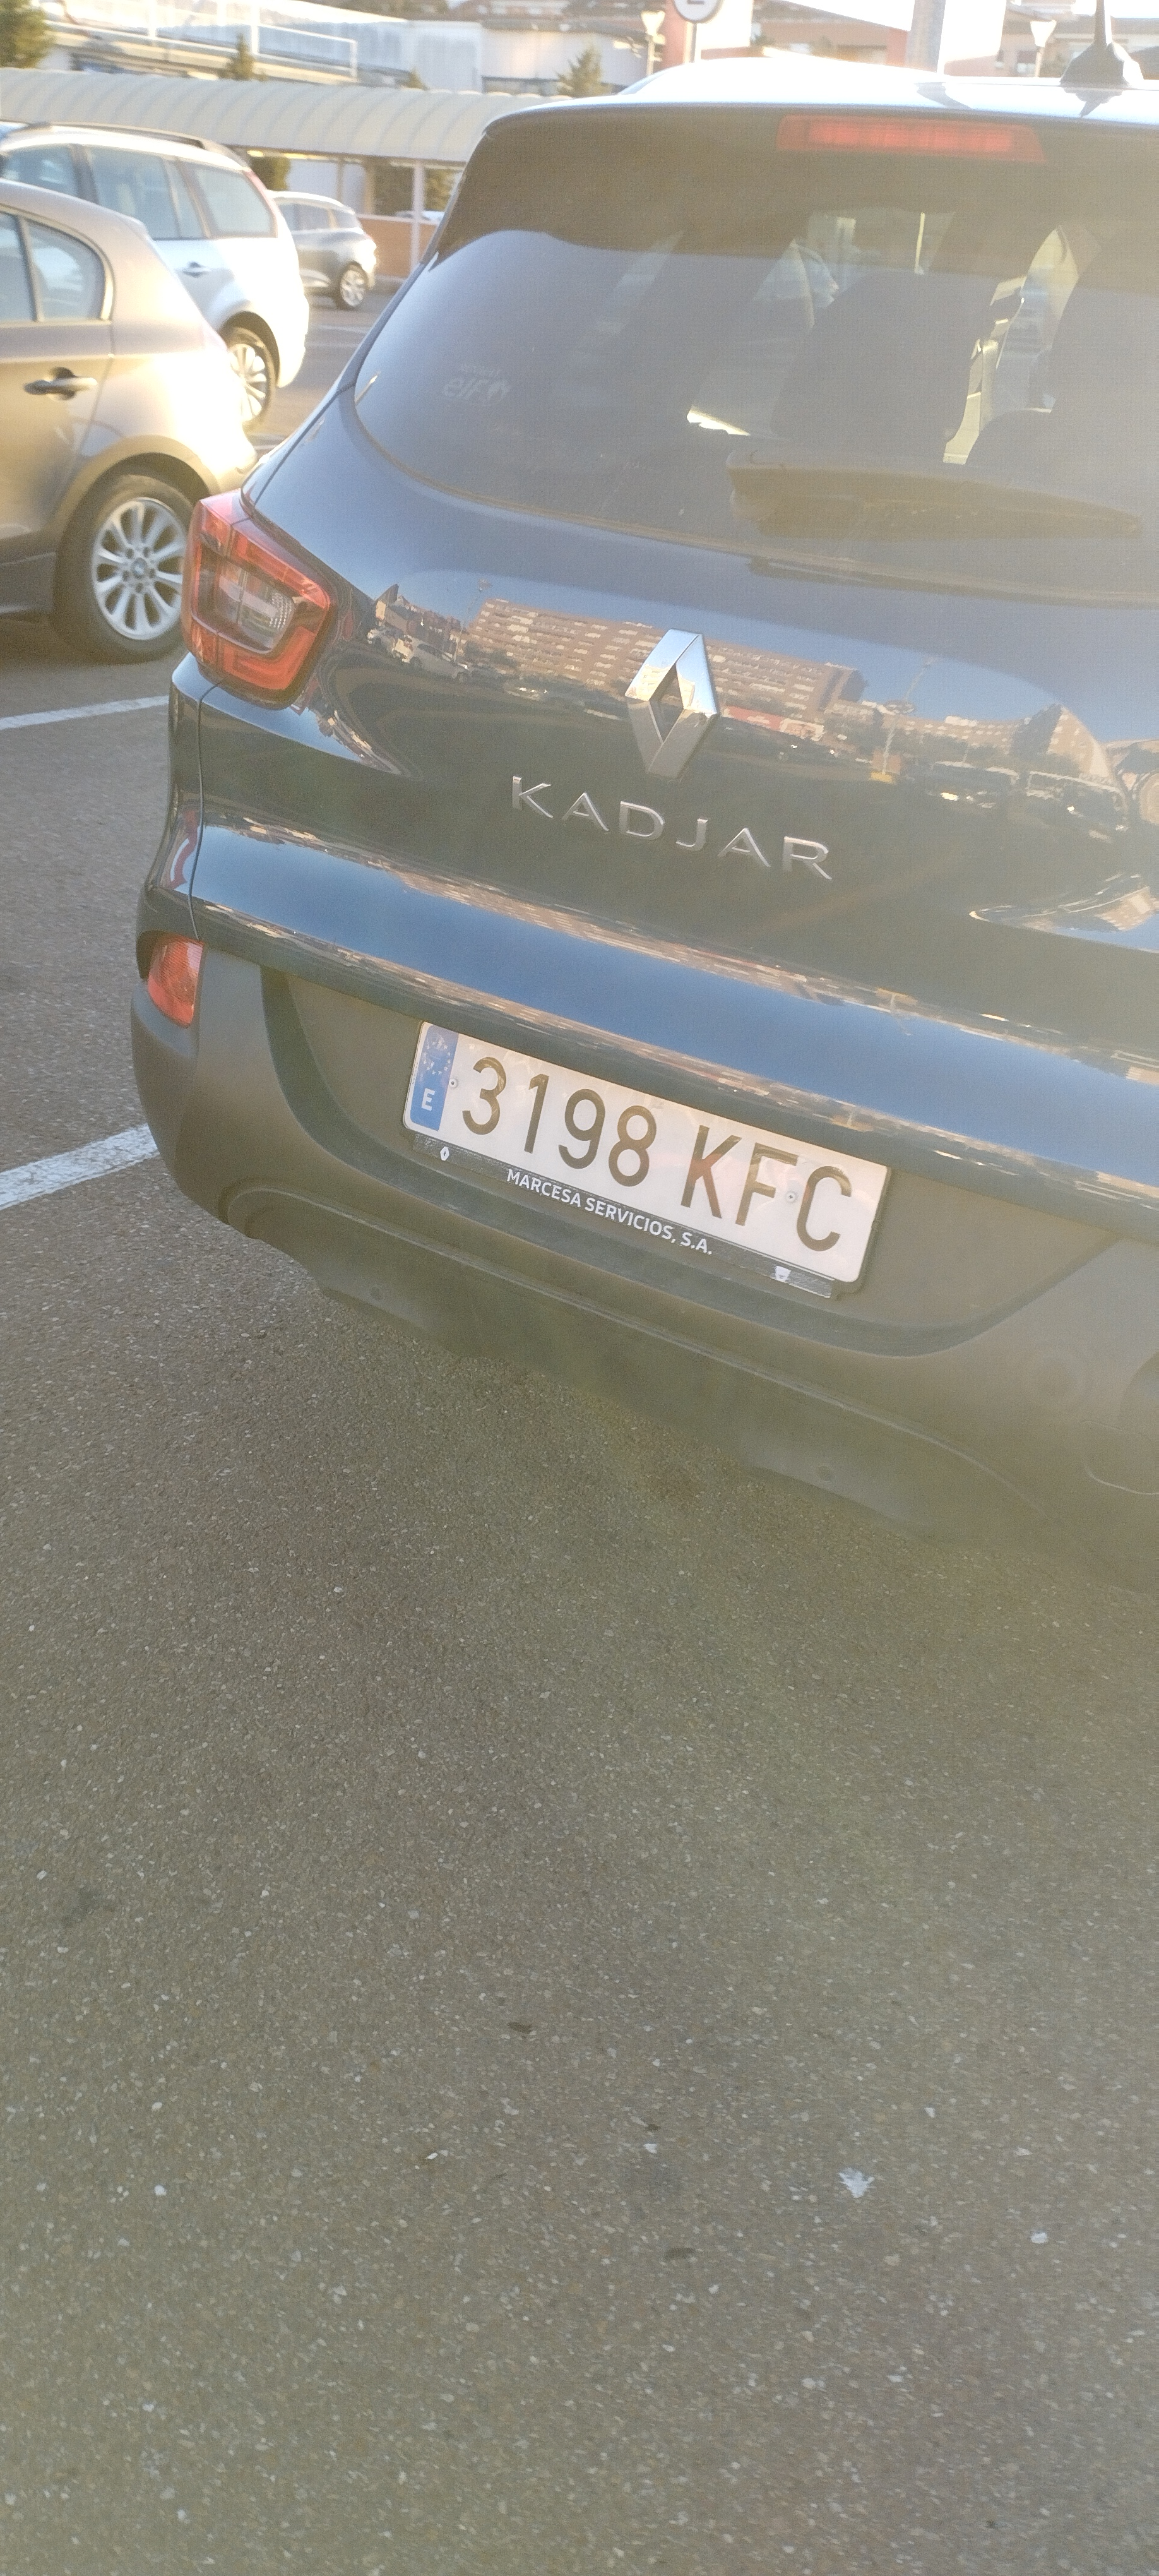Car: (122, 54, 1158, 1587)
Plate: (420, 1015, 917, 1155)
